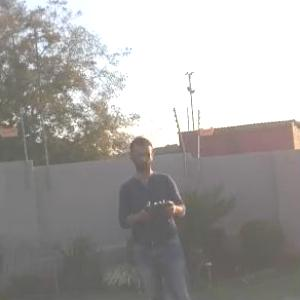follow: (113, 128, 200, 299)
